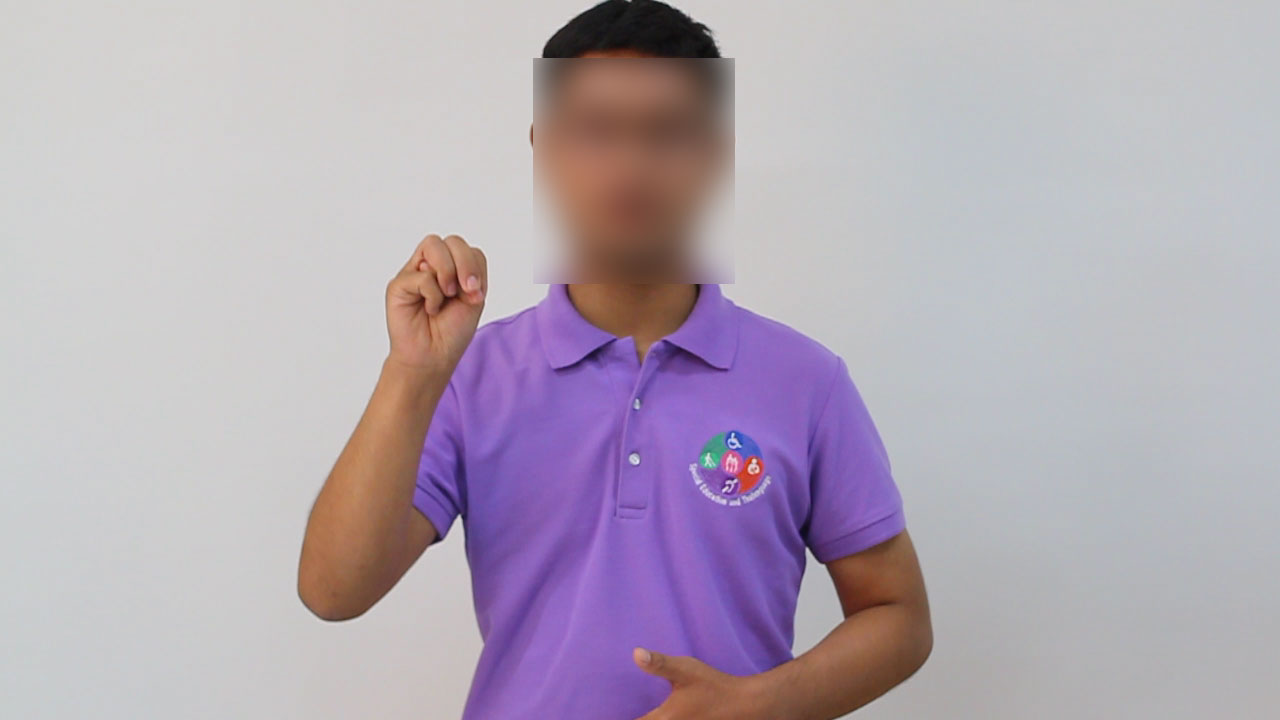mor: (382, 211, 495, 383)
